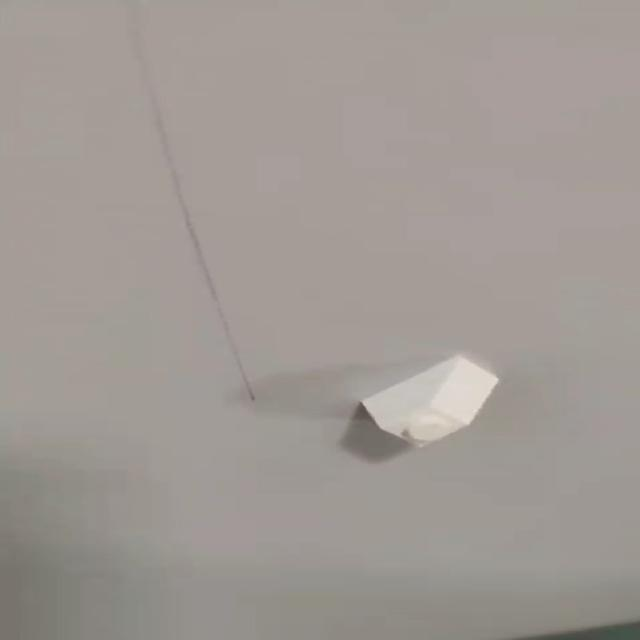P1x2x1: (350, 349, 501, 451)
